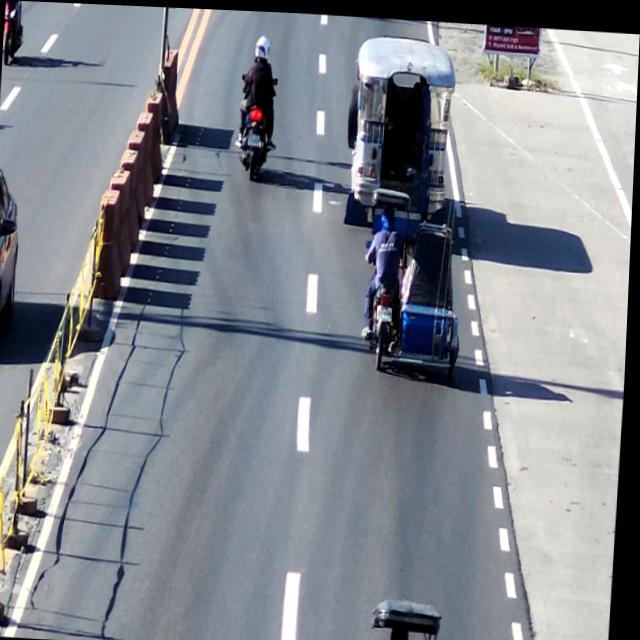Jeep: (341, 33, 461, 238)
License-Plate: (375, 300, 397, 320), (247, 131, 263, 147)
Motorcycle: (234, 31, 287, 186)
Tricycle: (356, 183, 474, 378), (367, 586, 453, 640)
